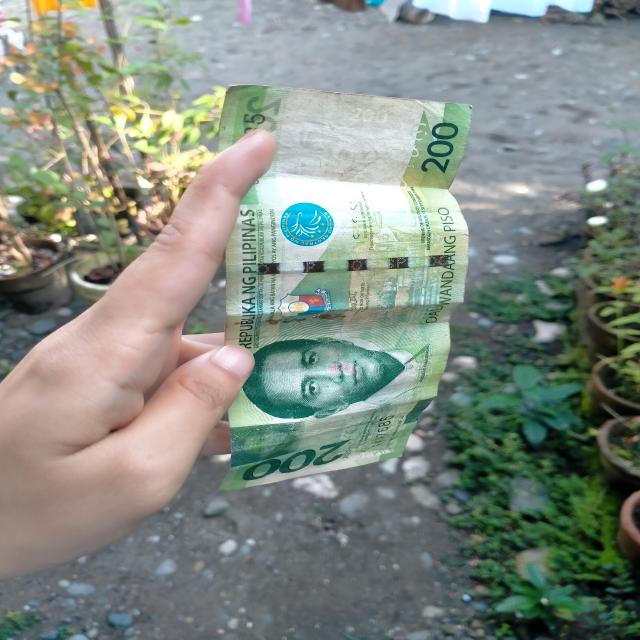concealed_value: (231, 421, 298, 468)
security_thread: (232, 254, 463, 276)
see_through_mark: (389, 118, 428, 191)
value: (242, 439, 347, 482)
